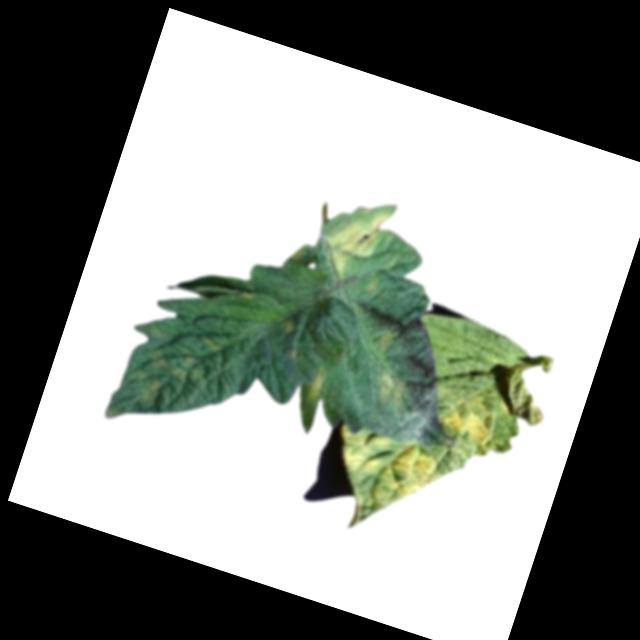Leaf_Mold: (312, 417, 453, 548), (113, 320, 216, 428), (314, 186, 403, 287), (434, 385, 510, 456), (299, 357, 334, 413), (370, 367, 408, 411)
